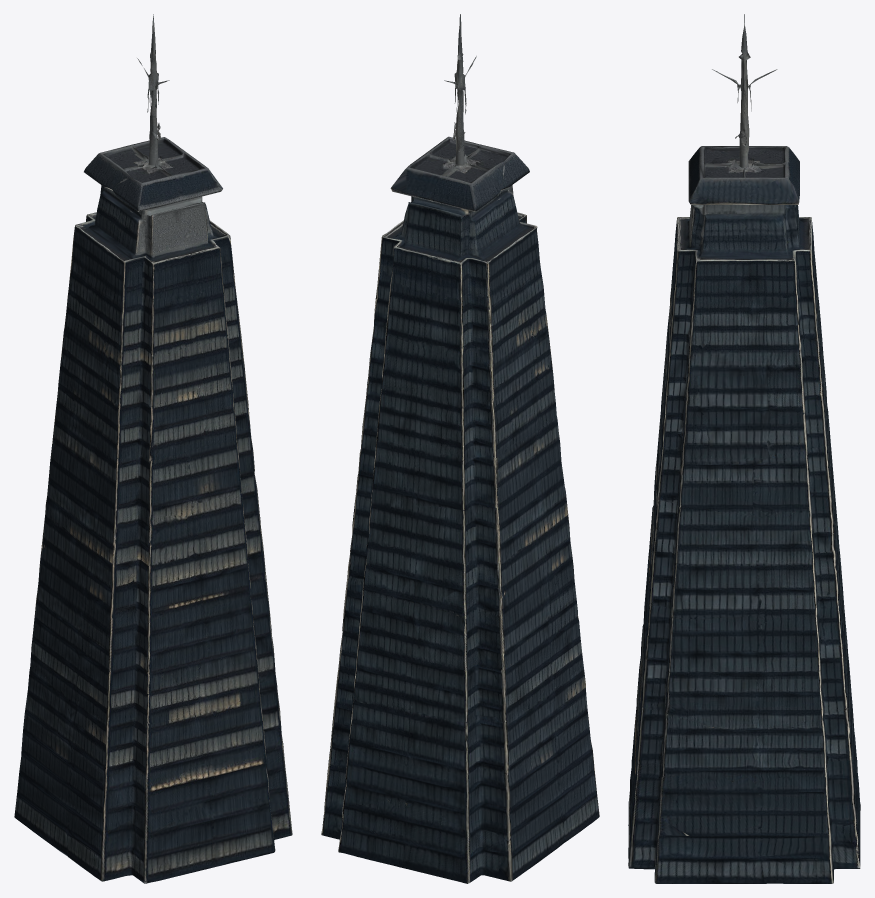
File: tower_a.glb
The picture shows the model from 3 angles, left to right: view 1: azimuth 30°, elevation 25°; view 2: azimuth 150°, elevation 25°; view 3: azimuth 270°, elevation 25°; orthographic projection.
Bounding box in the file's own units: 0.4685 × 1.9 × 0.4853.
Materials: 1 (1 with a texture image).
